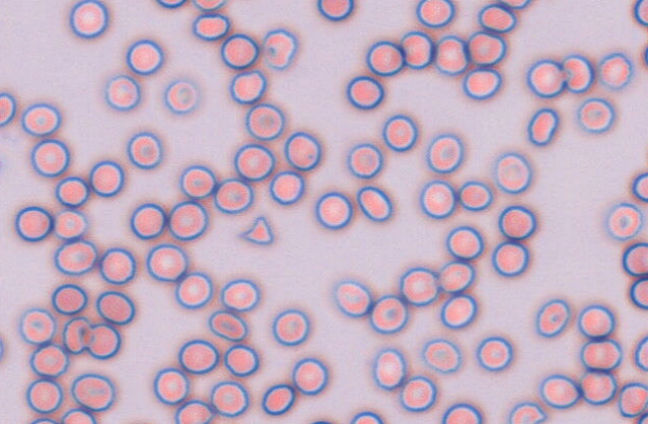RBC: (70, 372, 115, 411), (493, 151, 532, 194), (233, 142, 275, 181), (368, 294, 408, 334), (526, 58, 566, 98), (168, 200, 208, 240), (145, 243, 187, 281), (53, 239, 97, 275), (399, 266, 439, 305), (30, 138, 70, 177), (425, 132, 463, 173), (538, 373, 581, 409), (244, 102, 284, 140), (283, 130, 321, 170), (371, 347, 406, 390), (69, 0, 108, 38), (605, 201, 643, 240), (333, 279, 372, 317), (213, 177, 253, 214), (419, 179, 456, 219), (433, 34, 469, 75), (314, 191, 352, 229), (271, 308, 309, 346), (210, 380, 249, 417), (14, 205, 53, 242), (220, 32, 259, 69), (291, 356, 328, 395), (576, 96, 615, 133), (178, 339, 219, 374), (175, 271, 213, 308), (19, 307, 56, 345), (104, 73, 141, 111), (125, 38, 163, 75), (467, 30, 506, 66), (365, 40, 404, 76), (597, 51, 633, 90), (497, 204, 536, 240), (126, 130, 162, 169), (421, 338, 461, 373), (95, 290, 135, 325), (580, 338, 622, 371), (399, 375, 436, 412), (129, 202, 166, 239), (99, 247, 136, 284), (153, 367, 189, 405), (577, 303, 615, 339), (475, 335, 513, 371), (491, 240, 529, 276), (88, 159, 124, 197), (228, 69, 267, 104), (535, 298, 570, 337), (29, 344, 69, 378), (461, 66, 501, 100), (21, 102, 61, 136), (85, 322, 121, 359), (440, 293, 477, 329), (346, 142, 383, 178), (579, 370, 617, 405), (25, 378, 63, 413), (445, 225, 483, 260), (382, 113, 417, 151), (400, 30, 434, 69), (220, 278, 260, 311), (163, 78, 199, 114), (356, 185, 392, 221), (179, 164, 216, 199), (346, 75, 384, 109), (208, 309, 247, 341), (269, 170, 304, 205), (438, 260, 475, 293), (223, 344, 259, 377), (477, 3, 516, 33), (51, 283, 87, 315), (53, 208, 88, 240), (617, 381, 648, 417), (61, 316, 91, 353), (415, 0, 454, 28), (261, 383, 295, 415), (54, 176, 89, 207), (458, 180, 493, 211), (192, 12, 230, 40), (621, 241, 648, 277), (174, 399, 213, 423), (440, 402, 482, 423), (316, 0, 354, 21), (629, 276, 648, 309), (61, 407, 96, 423), (0, 91, 16, 126), (631, 171, 648, 202), (634, 334, 648, 371), (349, 410, 384, 423), (191, 0, 227, 12), (633, 0, 648, 27), (208, 413, 237, 424), (497, 0, 532, 9), (154, 0, 187, 8), (29, 417, 60, 424), (119, 419, 159, 424), (642, 41, 648, 69), (635, 411, 647, 424), (307, 419, 334, 424), (0, 333, 4, 361), (645, 140, 648, 170), (0, 152, 3, 179)
Schistocyte: (265, 30, 298, 71), (529, 106, 560, 147), (562, 55, 593, 95), (237, 216, 274, 246), (509, 401, 546, 424)
